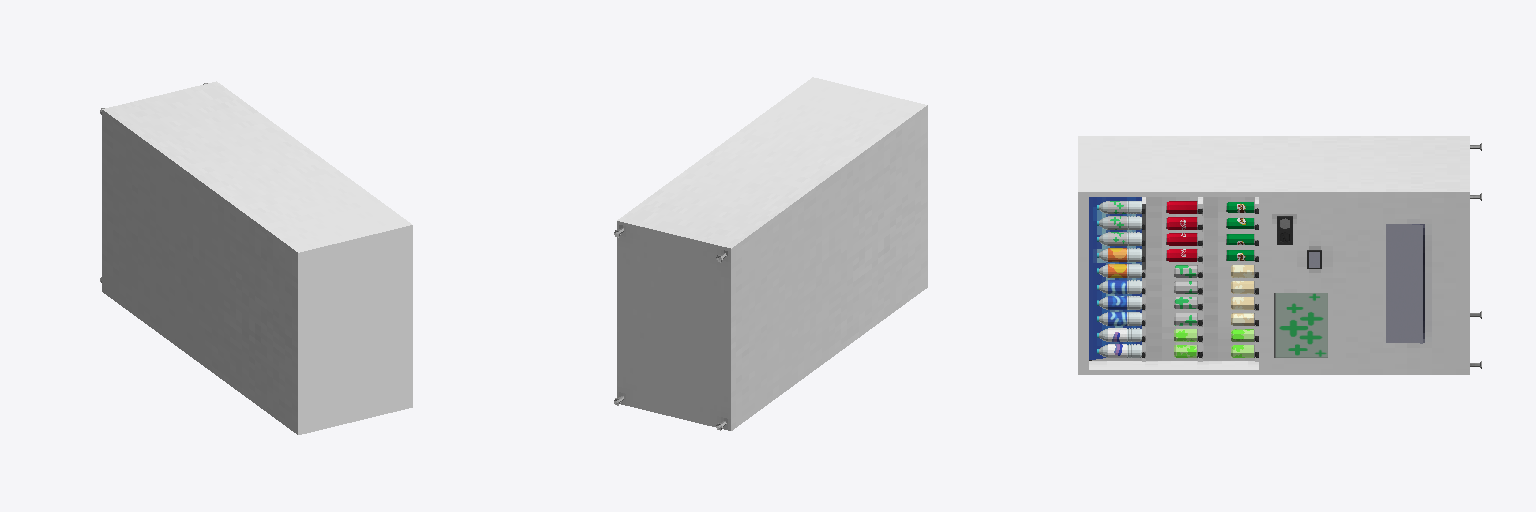
3 views of the same model, side by side, from view 1: azimuth 30°, elevation 25°; view 2: azimuth 150°, elevation 25°; view 3: azimuth 270°, elevation 25° (orthographic).
Visible parts, largest first — view 1: VendingMachine; view 2: VendingMachine; view 3: VendingMachine.
Boxes of the visible parts, box(x1,y1,x2,y2) form: VendingMachine: box(100, 81, 412, 434); VendingMachine: box(614, 77, 927, 430); VendingMachine: box(1078, 136, 1481, 374).
Size of the model in its own units: 0.6135 by 0.9137 by 1.83.
1 materials, 1 textured.